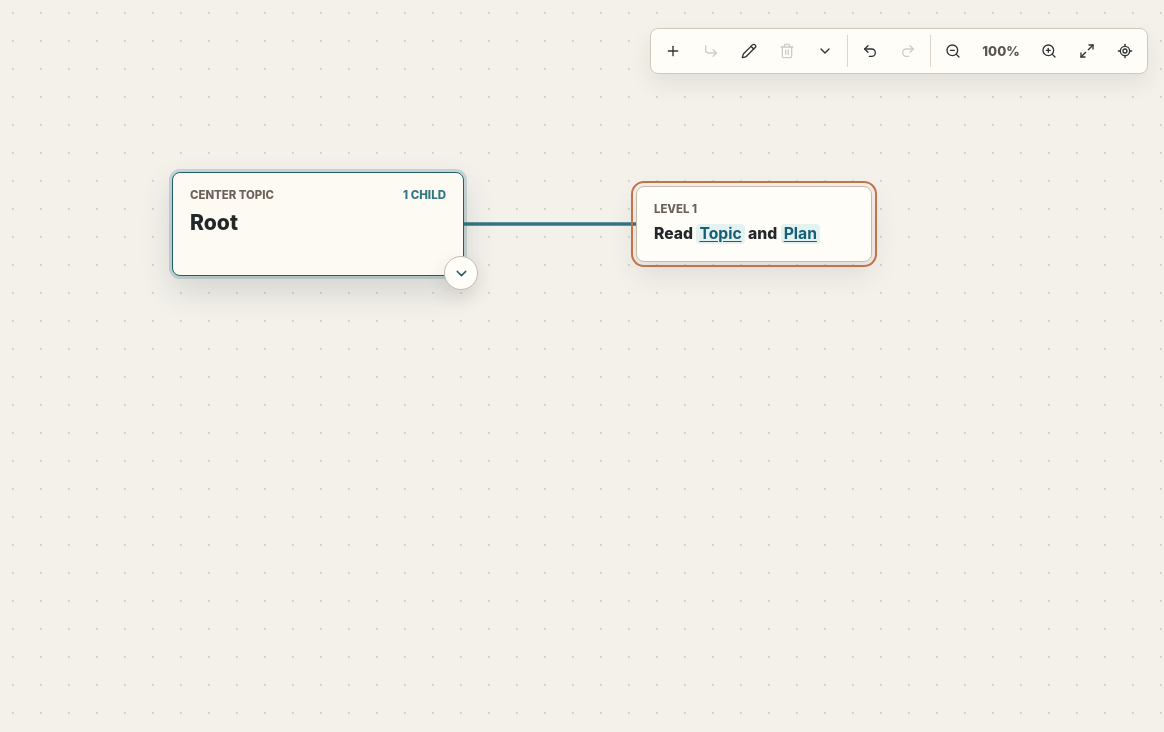
Test case: Markdown compatibility link UI › keeps raw Markdown text in node edit mode
Double-click the button named "Read [ [Topic]] and [Plan](Plan.md)" at (754, 224), box top-left (636, 186), bottom-right (872, 262)
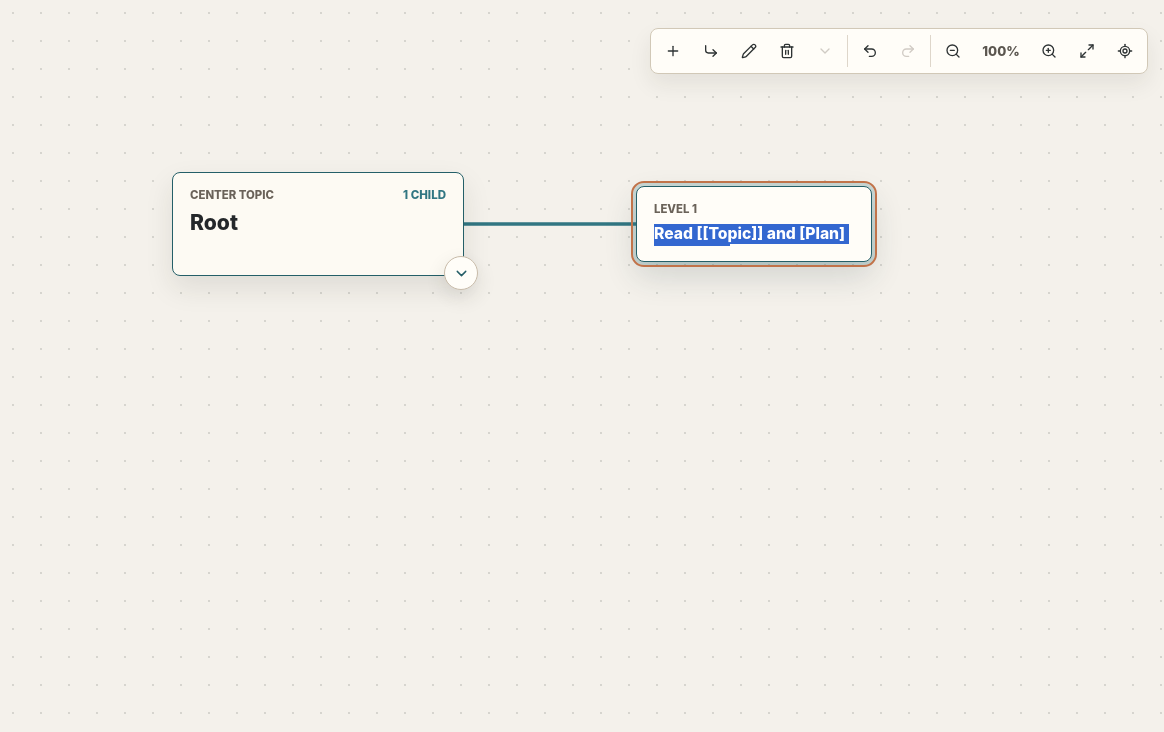
Check: the text box named "Rename Read [ [Topic]] and [Plan](Plan.md)" holds "Read [ [Topic]] and [Plan](Plan.md)", box top-left (654, 224), bottom-right (854, 246)
